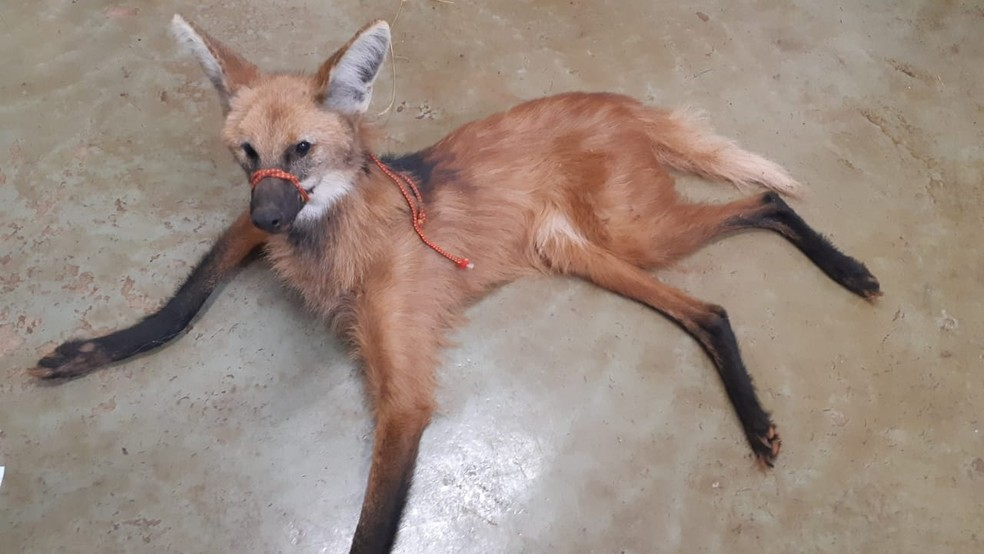LoboGuara: (24, 6, 897, 536)
